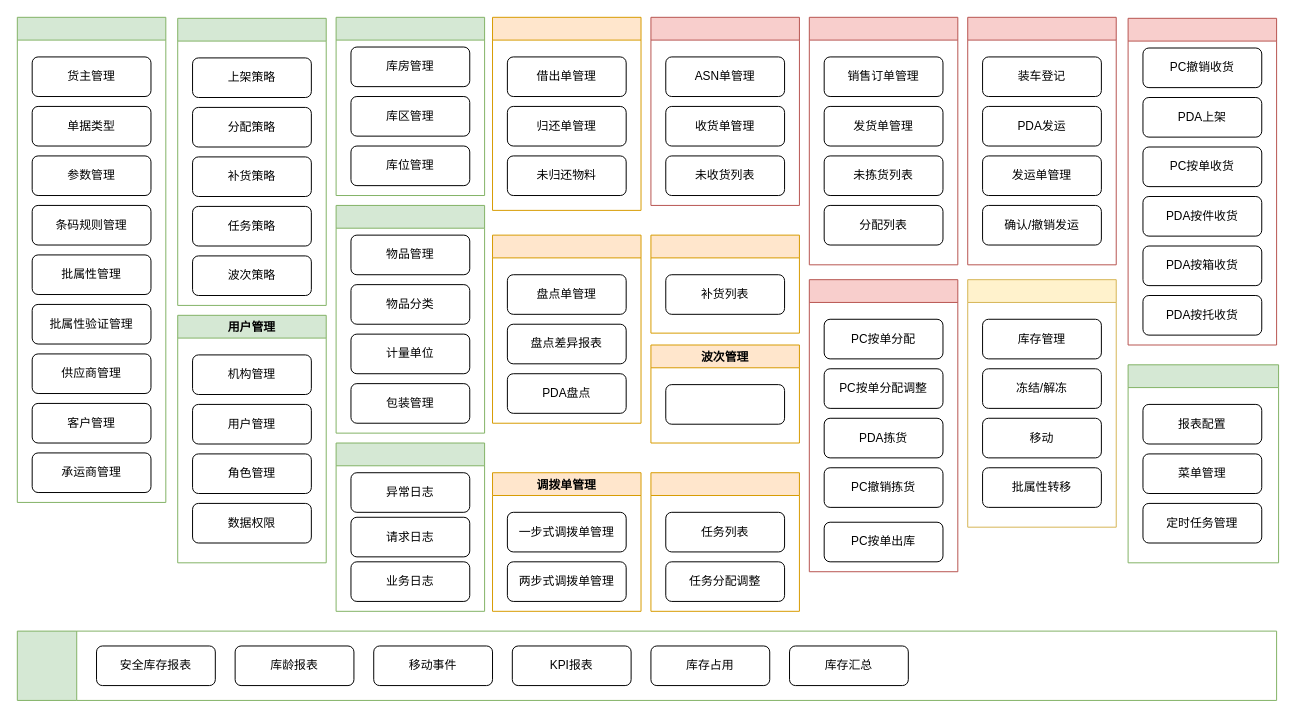
Some shapes in this 1296 by 718 pixel diagram are drawn without their labels. The shapes that lost their labels are listed below. From the top down, each one's box as (x1, y1, x2, y2) in pixels, then its label:
(335, 16, 485, 196): 库房信息
(492, 16, 641, 210): 借出归还管理
(650, 16, 799, 205): 入库单管理
(808, 16, 958, 265): 出库单管理
(967, 16, 1116, 265): 发运管理
(177, 17, 326, 305): 策略管理
(1127, 17, 1277, 345): 收货管理
(16, 16, 166, 502): 基础信息
(650, 234, 799, 333): 补货管理
(335, 204, 485, 433): 物品
(492, 234, 641, 423): 盘点管理
(665, 384, 785, 424): 波次列表
(967, 279, 1116, 527): 库内管理
(808, 279, 958, 572): 拣货管理
(1127, 364, 1279, 563): 系统管理
(335, 442, 485, 611): 日志监控
(650, 472, 799, 611): 任务管理
(16, 630, 1277, 700): 报表 统计
